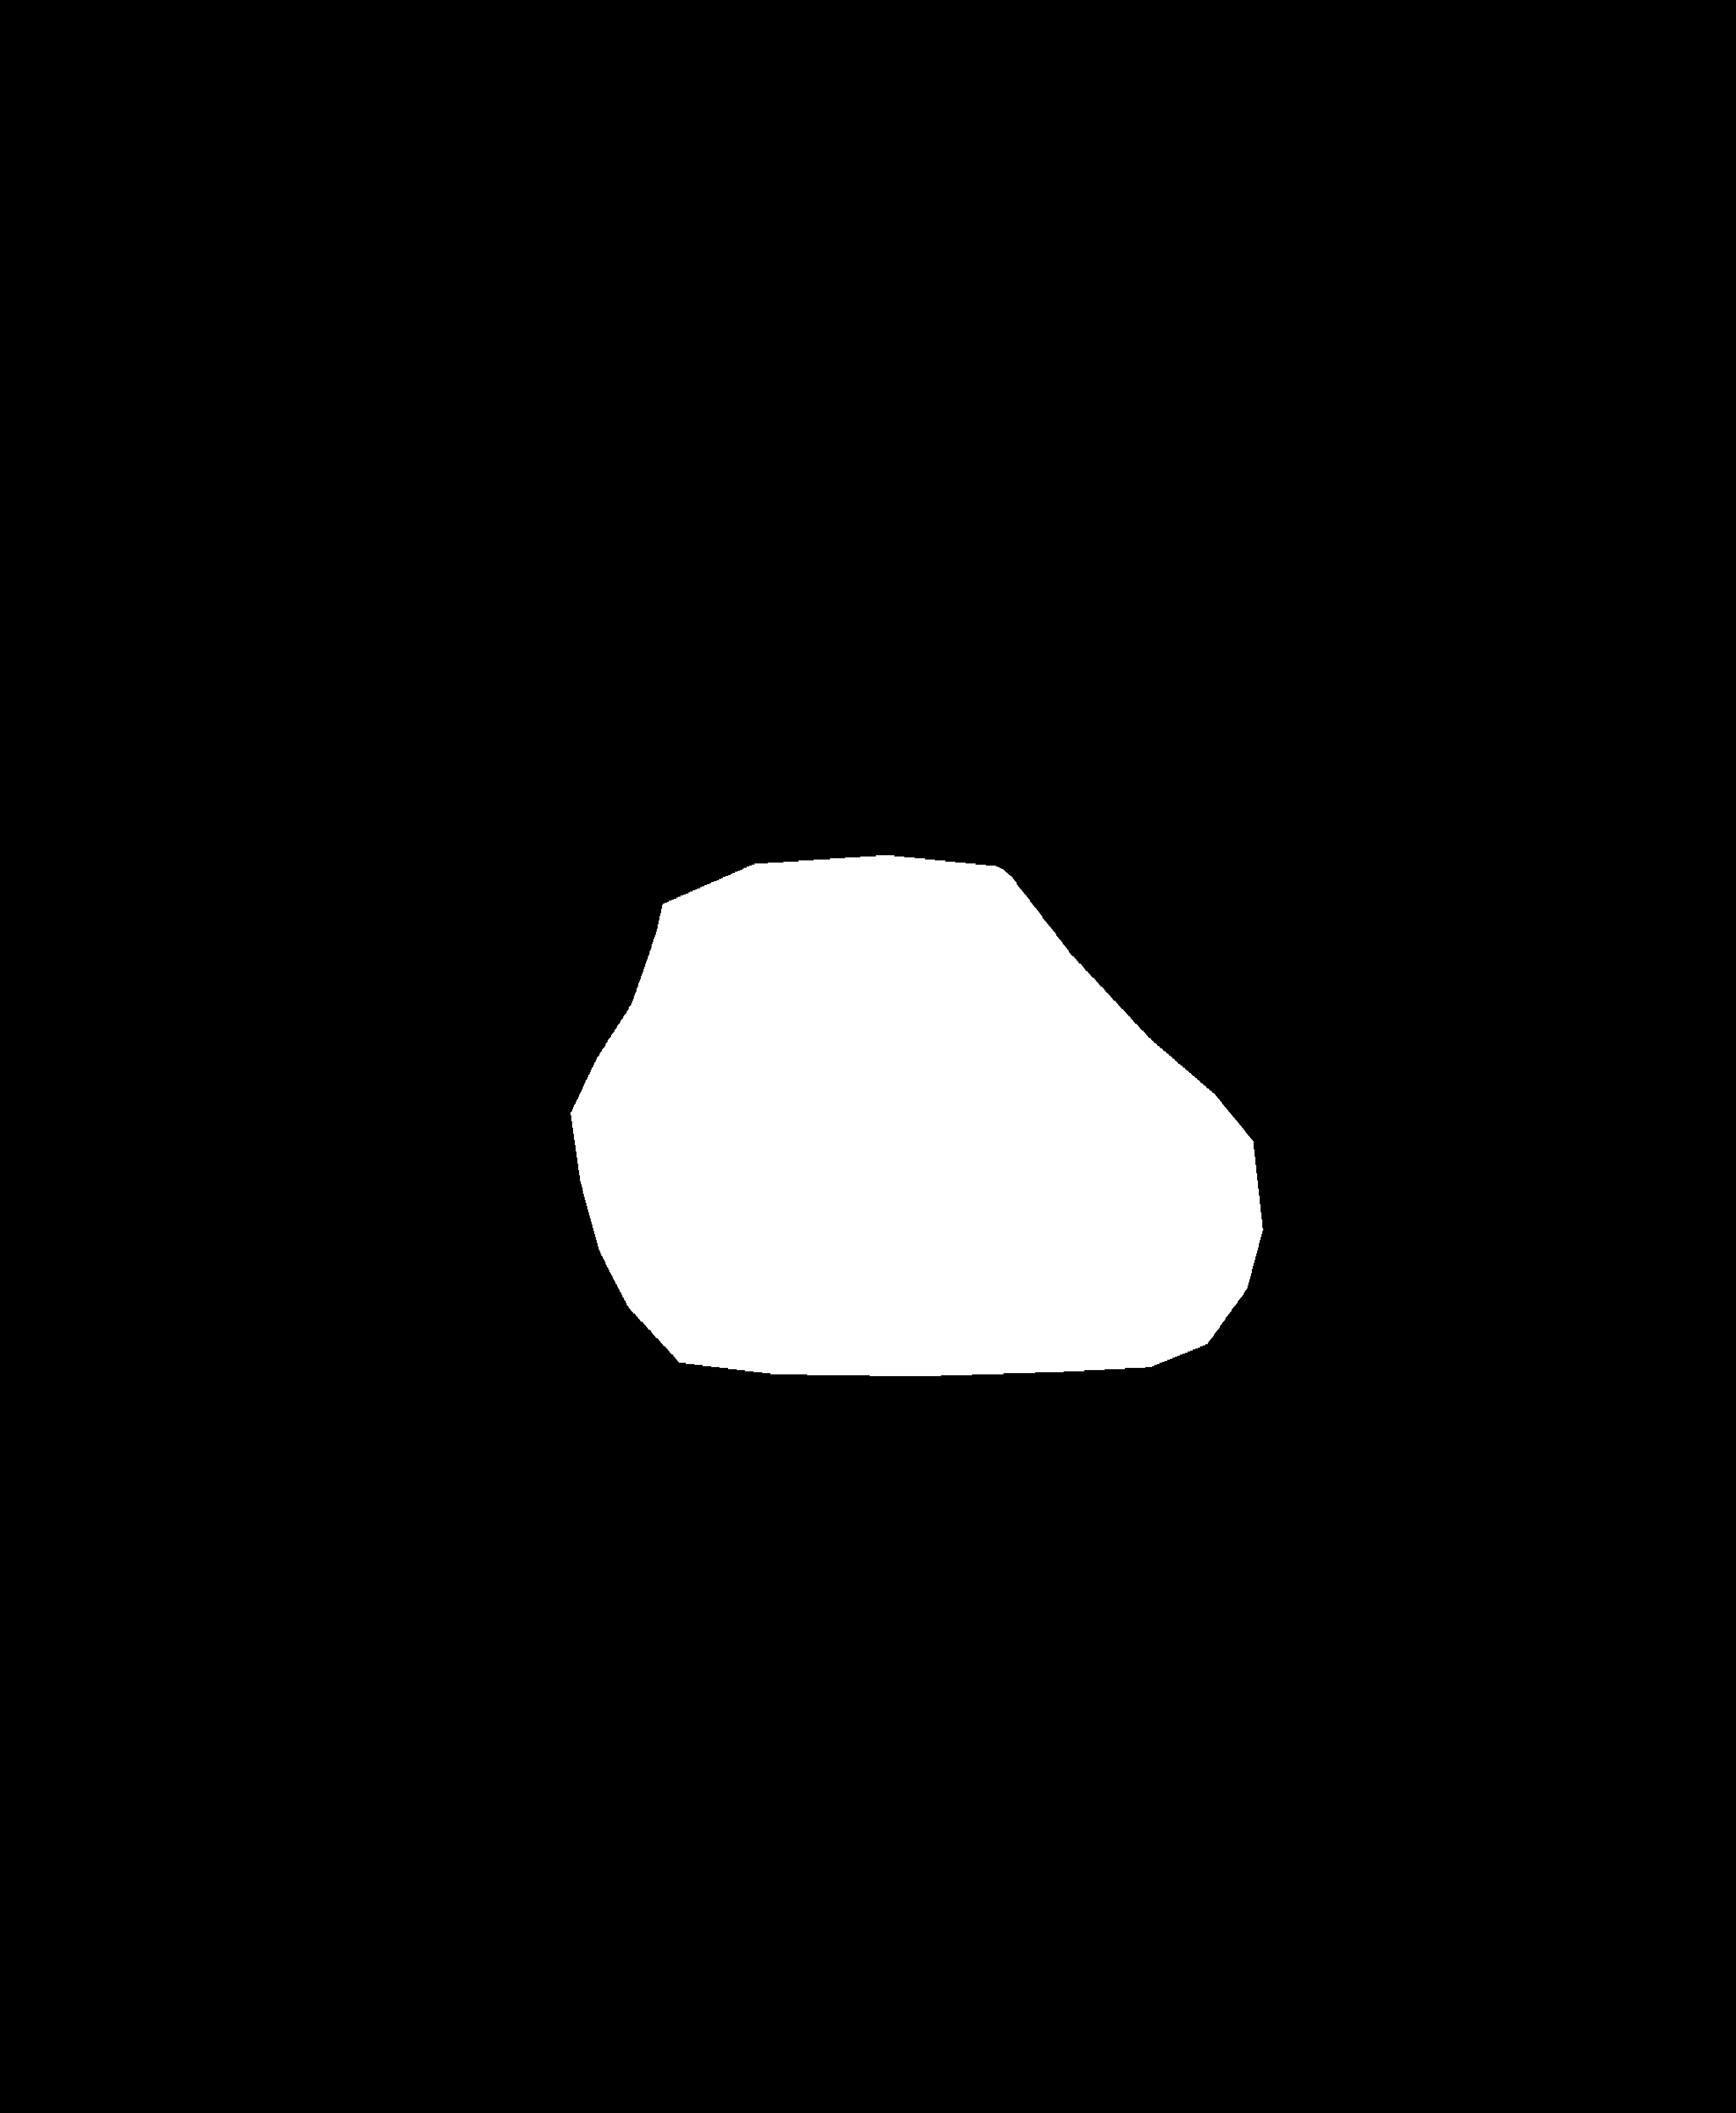heart: (569, 990, 1274, 1369)
left_lung: (79, 216, 714, 1541)
right_lung: (899, 198, 1611, 1497)
